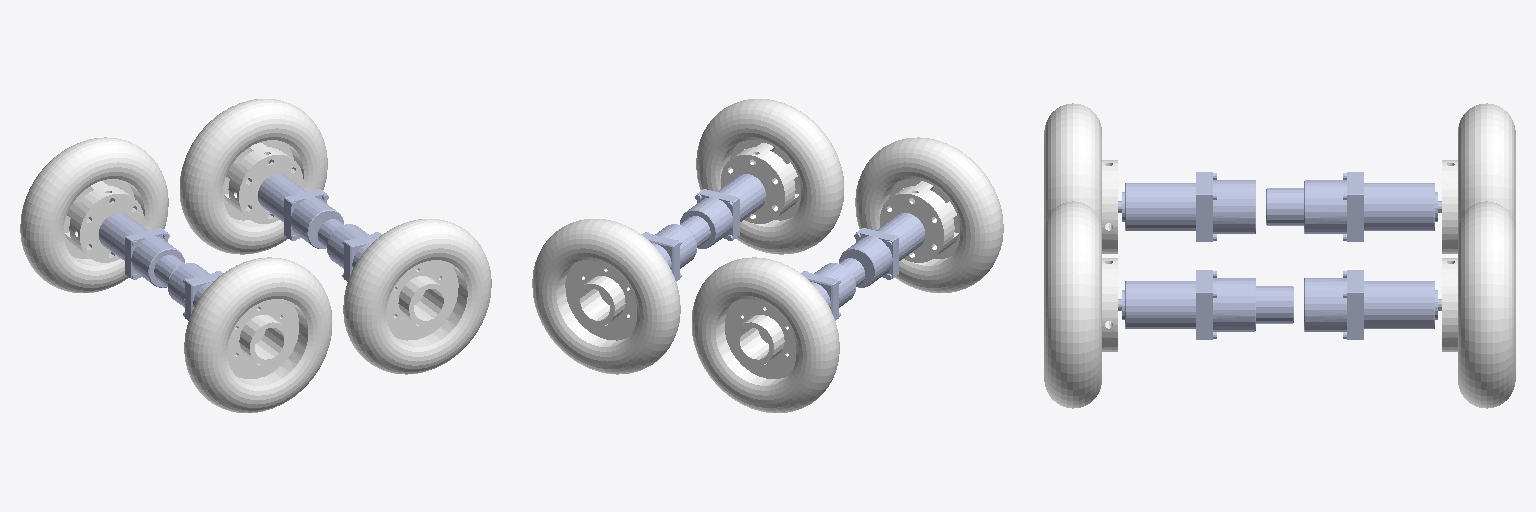
robot.urdf — link_description:
<?xml version="1.0" encoding="utf-8"?>
<!-- This URDF was automatically created by SolidWorks to URDF Exporter! Originally created by [author] ([email redacted]) 
     Commit Version: 1.5.1-0-g916b5db  Build Version: 1.5.7152.31018
     For more information, please see http://wiki.ros.org/sw_urdf_exporter -->
<robot
  name="link_description">
  <link
    name="link_description">
    <inertial>
      <origin
        xyz="-0.00683959664372729 -0.443844122468362 -0.0127270207514699"
        rpy="0 0 0" />
      <mass
        value="2.25712074587089" />
      <inertia
        ixx="0.00503768783075504"
        ixy="4.30960898641349E-08"
        ixz="-2.40410247933642E-06"
        iyy="0.0112869573486054"
        iyz="-3.1620753721169E-08"
        izz="0.0154235137593039" />
    </inertial>
    <visual>
      <origin
        xyz="0 0 0"
        rpy="0 0 0" />
      <geometry>
        <mesh
          filename="package://link_description/meshes/link_description.STL" />
      </geometry>
      <material
        name="">
        <color
          rgba="0.898039215686275 0.917647058823529 0.929411764705882 1" />
      </material>
    </visual>
    <collision>
      <origin
        xyz="0 0 0"
        rpy="0 0 0" />
      <geometry>
        <mesh
          filename="package://link_description/meshes/link_description.STL" />
      </geometry>
    </collision>
  </link>
  <link
    name="motor_FR">
    <inertial>
      <origin
        xyz="-2.77908985277242E-06 -7.99149635355434E-12 0.00489456333940197"
        rpy="0 0 0" />
      <mass
        value="0.392331941011053" />
      <inertia
        ixx="0.000964450037448559"
        ixy="-2.86275518380137E-14"
        ixz="1.08973166428666E-07"
        iyy="0.000964445525197835"
        iyz="1.1381452828372E-13"
        izz="0.000145722784840372" />
    </inertial>
    <visual>
      <origin
        xyz="0 0 0"
        rpy="0 0 0" />
      <geometry>
        <mesh
          filename="package://link_description/meshes/motor_FR.STL" />
      </geometry>
      <material
        name="">
        <color
          rgba="0.792156862745098 0.819607843137255 0.933333333333333 1" />
      </material>
    </visual>
    <collision>
      <origin
        xyz="0 0 0"
        rpy="0 0 0" />
      <geometry>
        <mesh
          filename="package://link_description/meshes/motor_FR.STL" />
      </geometry>
    </collision>
  </link>
  <joint
    name="joint1"
    type="fixed">
    <origin
      xyz="0.106990080402908 -0.520072437357651 -0.0874779116165758"
      rpy="1.5707963267949 0 0" />
    <parent
      link="link_description" />
    <child
      link="motor_FR" />
    <axis
      xyz="0 0 0" />
  </joint>
  <link
    name="wheel_FR">
    <inertial>
      <origin
        xyz="-3.43663935004207E-05 0.0429524655918591 -4.60741023788486E-05"
        rpy="0 0 0" />
      <mass
        value="1.62613225567425" />
      <inertia
        ixx="0.00550390517907719"
        ixy="-3.8259049177798E-07"
        ixz="2.64117005601572E-08"
        iyy="0.0102678418204279"
        iyz="-5.10107907461827E-07"
        izz="0.0055046856452938" />
    </inertial>
    <visual>
      <origin
        xyz="0 0 0"
        rpy="0 0 0" />
      <geometry>
        <mesh
          filename="package://link_description/meshes/wheel_FR.STL" />
      </geometry>
      <material
        name="">
        <color
          rgba="1 1 1 1" />
      </material>
    </visual>
    <collision>
      <origin
        xyz="0 0 0"
        rpy="0 0 0" />
      <geometry>
        <mesh
          filename="package://link_description/meshes/wheel_FR.STL" />
      </geometry>
    </collision>
  </link>
  <joint
    name="joint5"
    type="continuous">
    <origin
      xyz="0 0 0.0965999999999989"
      rpy="1.5707963267949 0 1.57079632679491" />
    <parent
      link="motor_FR" />
    <child
      link="wheel_FR" />
    <axis
      xyz="0 1 0" />
  </joint>
  <link
    name="motor_FL">
    <inertial>
      <origin
        xyz="-3.18682266688131E-06 -2.55011289862495E-12 0.0159983891648807"
        rpy="0 0 0" />
      <mass
        value="0.34212825073473" />
      <inertia
        ixx="0.000623108104288752"
        ixy="-4.01616661510946E-14"
        ixz="9.68645448868394E-08"
        iyy="0.000623103591642188"
        iyz="-4.11327949316238E-14"
        izz="0.000135693595224051" />
    </inertial>
    <visual>
      <origin
        xyz="0 0 0"
        rpy="0 0 0" />
      <geometry>
        <mesh
          filename="package://link_description/meshes/motor_FL.STL" />
      </geometry>
      <material
        name="">
        <color
          rgba="0.792156862745098 0.819607843137255 0.933333333333333 1" />
      </material>
    </visual>
    <collision>
      <origin
        xyz="0 0 0"
        rpy="0 0 0" />
      <geometry>
        <mesh
          filename="package://link_description/meshes/motor_FL.STL" />
      </geometry>
    </collision>
  </link>
  <joint
    name="joint2"
    type="fixed">
    <origin
      xyz="0.106990080402911 -0.367672437357655 -0.0874779116165722"
      rpy="1.5707963267949 0 3.14159265358979" />
    <parent
      link="link_description" />
    <child
      link="motor_FL" />
    <axis
      xyz="0 0 0" />
  </joint>
  <link
    name="wheel_FL">
    <inertial>
      <origin
        xyz="-3.43663935034599E-05 0.0429524655918592 -4.60741023821654E-05"
        rpy="0 0 0" />
      <mass
        value="1.62613225567425" />
      <inertia
        ixx="0.00550390517907719"
        ixy="-3.82590491778755E-07"
        ixz="2.64117005604274E-08"
        iyy="0.0102678418204279"
        iyz="-5.10107907494059E-07"
        izz="0.0055046856452938" />
    </inertial>
    <visual>
      <origin
        xyz="0 0 0"
        rpy="0 0 0" />
      <geometry>
        <mesh
          filename="package://link_description/meshes/wheel_FL.STL" />
      </geometry>
      <material
        name="">
        <color
          rgba="1 1 1 1" />
      </material>
    </visual>
    <collision>
      <origin
        xyz="0 0 0"
        rpy="0 0 0" />
      <geometry>
        <mesh
          filename="package://link_description/meshes/wheel_FL.STL" />
      </geometry>
    </collision>
  </link>
  <joint
    name="joint6"
    type="continuous">
    <origin
      xyz="0 0 0.0965999999999991"
      rpy="1.57079632679491 0 1.57079632679486" />
    <parent
      link="motor_FL" />
    <child
      link="wheel_FL" />
    <axis
      xyz="0 1 0" />
  </joint>
  <link
    name="motor_BR">
    <inertial>
      <origin
        xyz="-3.18682266689518E-06 -2.55015453198837E-12 0.0159983891648807"
        rpy="0 0 0" />
      <mass
        value="0.34212825073473" />
      <inertia
        ixx="0.000623108104288753"
        ixy="-4.01616680293276E-14"
        ixz="9.68645448868351E-08"
        iyy="0.000623103591642189"
        iyz="-4.11327933863058E-14"
        izz="0.000135693595224051" />
    </inertial>
    <visual>
      <origin
        xyz="0 0 0"
        rpy="0 0 0" />
      <geometry>
        <mesh
          filename="package://link_description/meshes/motor_BR.STL" />
      </geometry>
      <material
        name="">
        <color
          rgba="0.792156862745098 0.819607843137255 0.933333333333333 1" />
      </material>
    </visual>
    <collision>
      <origin
        xyz="0 0 0"
        rpy="0 0 0" />
      <geometry>
        <mesh
          filename="package://link_description/meshes/motor_BR.STL" />
      </geometry>
    </collision>
  </link>
  <joint
    name="joint3"
    type="fixed">
    <origin
      xyz="-0.139509919597089 -0.520072437357651 -0.0874779116165673"
      rpy="1.5707963267949 0 0" />
    <parent
      link="link_description" />
    <child
      link="motor_BR" />
    <axis
      xyz="0 0 0" />
  </joint>
  <link
    name="wheel_BR">
    <inertial>
      <origin
        xyz="-3.43663935071237E-05 0.0429524655918587 -4.60741023788347E-05"
        rpy="0 0 0" />
      <mass
        value="1.62613225567425" />
      <inertia
        ixx="0.00550390517907719"
        ixy="-3.82590491777973E-07"
        ixz="2.64117005601768E-08"
        iyy="0.0102678418204279"
        iyz="-5.10107907455327E-07"
        izz="0.0055046856452938" />
    </inertial>
    <visual>
      <origin
        xyz="0 0 0"
        rpy="0 0 0" />
      <geometry>
        <mesh
          filename="package://link_description/meshes/wheel_BR.STL" />
      </geometry>
      <material
        name="">
        <color
          rgba="1 1 1 1" />
      </material>
    </visual>
    <collision>
      <origin
        xyz="0 0 0"
        rpy="0 0 0" />
      <geometry>
        <mesh
          filename="package://link_description/meshes/wheel_BR.STL" />
      </geometry>
    </collision>
  </link>
  <joint
    name="joint7"
    type="continuous">
    <origin
      xyz="0 0 0.0965999999999997"
      rpy="1.5707963267949 0 1.57079632679491" />
    <parent
      link="motor_BR" />
    <child
      link="wheel_BR" />
    <axis
      xyz="0 1 0" />
  </joint>
  <link
    name="motor_BL">
    <inertial>
      <origin
        xyz="-2.77908985285569E-06 -7.99146859797872E-12 0.00489456333940175"
        rpy="0 0 0" />
      <mass
        value="0.392331941011053" />
      <inertia
        ixx="0.000964450037448558"
        ixy="-2.86275464258017E-14"
        ixz="1.08973166428613E-07"
        iyy="0.000964445525197834"
        iyz="1.1381452267601E-13"
        izz="0.000145722784840372" />
    </inertial>
    <visual>
      <origin
        xyz="0 0 0"
        rpy="0 0 0" />
      <geometry>
        <mesh
          filename="package://link_description/meshes/motor_BL.STL" />
      </geometry>
      <material
        name="">
        <color
          rgba="0.792156862745098 0.819607843137255 0.933333333333333 1" />
      </material>
    </visual>
    <collision>
      <origin
        xyz="0 0 0"
        rpy="0 0 0" />
      <geometry>
        <mesh
          filename="package://link_description/meshes/motor_BL.STL" />
      </geometry>
    </collision>
  </link>
  <joint
    name="joint4"
    type="fixed">
    <origin
      xyz="-0.139509919597085 -0.367672437357655 -0.0874779116165722"
      rpy="1.5707963267949 0 3.14159265358979" />
    <parent
      link="link_description" />
    <child
      link="motor_BL" />
    <axis
      xyz="0 0 0" />
  </joint>
  <link
    name="wheel_BL">
    <inertial>
      <origin
        xyz="-3.43663935034183E-05 0.0429524655918614 -4.60741023821931E-05"
        rpy="0 0 0" />
      <mass
        value="1.62613225567425" />
      <inertia
        ixx="0.00550390517907719"
        ixy="-3.82590491778839E-07"
        ixz="2.64117005604506E-08"
        iyy="0.0102678418204279"
        iyz="-5.10107907494091E-07"
        izz="0.0055046856452938" />
    </inertial>
    <visual>
      <origin
        xyz="0 0 0"
        rpy="0 0 0" />
      <geometry>
        <mesh
          filename="package://link_description/meshes/wheel_BL.STL" />
      </geometry>
      <material
        name="">
        <color
          rgba="1 1 1 1" />
      </material>
    </visual>
    <collision>
      <origin
        xyz="0 0 0"
        rpy="0 0 0" />
      <geometry>
        <mesh
          filename="package://link_description/meshes/wheel_BL.STL" />
      </geometry>
    </collision>
  </link>
  <joint
    name="joint8"
    type="continuous">
    <origin
      xyz="0 0 0.0965999999999965"
      rpy="1.57079632679491 0 1.57079632679486" />
    <parent
      link="motor_BL" />
    <child
      link="wheel_BL" />
    <axis
      xyz="0 1 0" />
  </joint>
</robot>

--- Facts derived from the render (not from the file) ---
The picture shows the robot from 3 angles, left to right: view 1: azimuth 30°, elevation 25°; view 2: azimuth 150°, elevation 25°; view 3: azimuth 270°, elevation 25°; orthographic projection.
Robot: link_description — 9 links, 8 joints (4 continuous, 4 fixed); root link link_description; default pose: all joints at 0.
Links seen in each view (by area): view 1: wheel_FR, wheel_BR, wheel_BL, wheel_FL, motor_BL, motor_FL, motor_FR, motor_BR; view 2: wheel_FL, wheel_BL, wheel_BR, wheel_FR, motor_FR, motor_BR, motor_BL, motor_FL; view 3: wheel_FR, wheel_FL, motor_FR, motor_BL, wheel_BR, wheel_BL, motor_FL, motor_BR.
Boxes of the visible links, x1,y1,x2,y2 form: wheel_FR: (343,219,491,374); wheel_BR: (184,257,331,412); wheel_BL: (20,137,168,292); wheel_FL: (180,99,327,254); motor_BL: (99,213,184,287); motor_FL: (258,174,343,248); motor_FR: (318,219,382,281); motor_BR: (168,263,222,320); wheel_FL: (532,219,680,374); wheel_BL: (692,257,839,412); wheel_BR: (855,137,1003,292); wheel_FR: (696,99,843,254); motor_FR: (680,174,765,248); motor_BR: (839,213,924,287); motor_BL: (801,258,864,320); motor_FL: (641,224,696,281); wheel_FR: (1044,201,1117,408); wheel_FL: (1442,201,1515,408); motor_FR: (1118,270,1293,339); motor_BL: (1266,172,1441,241); wheel_BR: (1044,103,1117,253); wheel_BL: (1442,103,1515,253); motor_FL: (1304,270,1441,339); motor_BR: (1118,172,1255,241).
Bounding box of the posed robot: 0.4666 × 0.501 × 0.2205 m (x, y, z).
Meshes: 9 distinct files referenced, 8 mesh visuals loaded (8 binary STL); not drawn: 1 (reference not matched to a file when rendering).